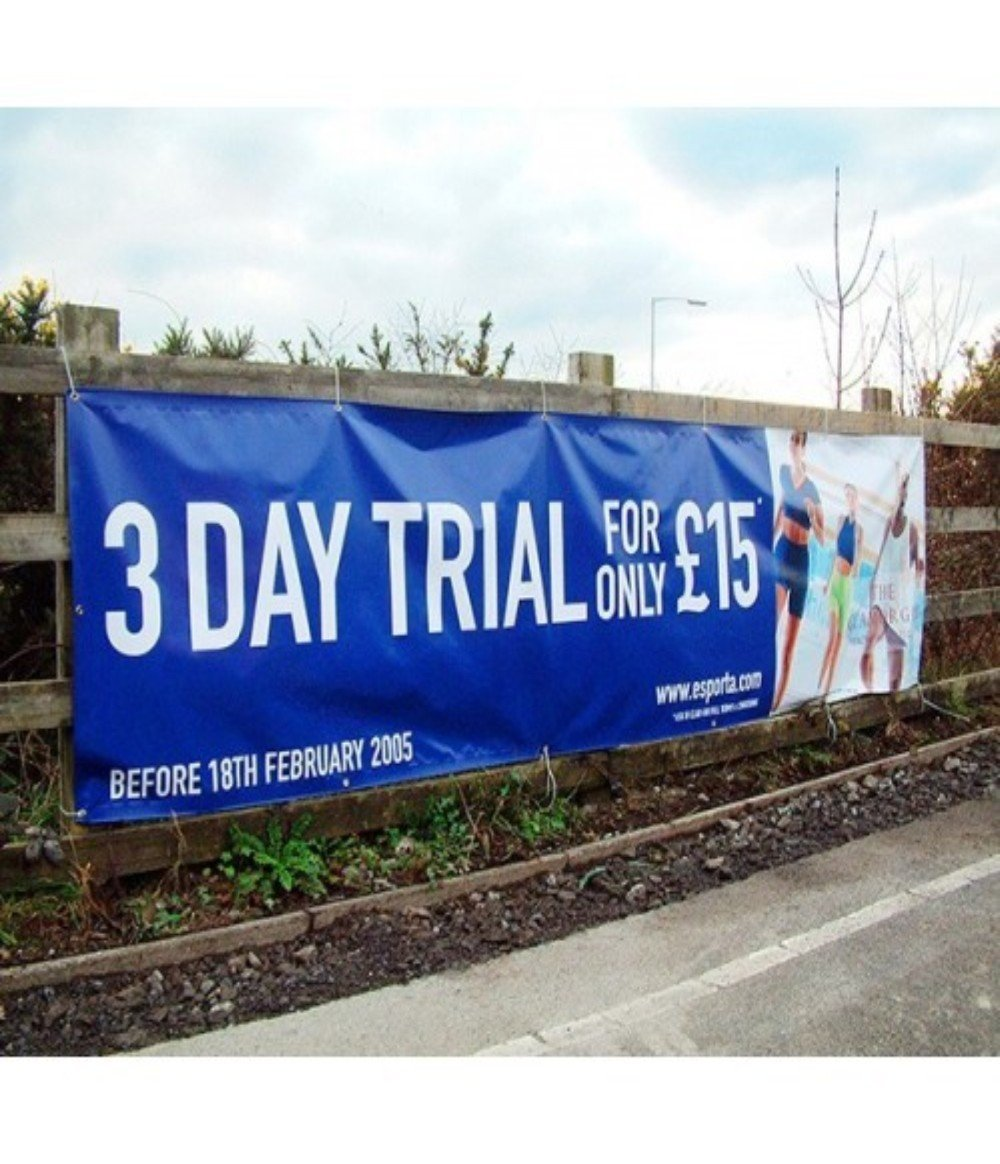vinyl banner: (56, 369, 964, 826)
